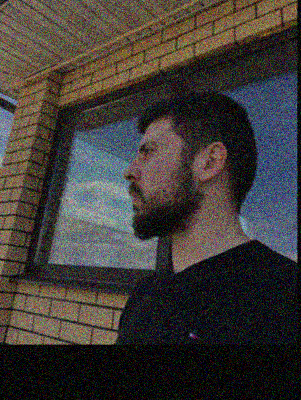without_mask: (122, 130, 181, 239)
